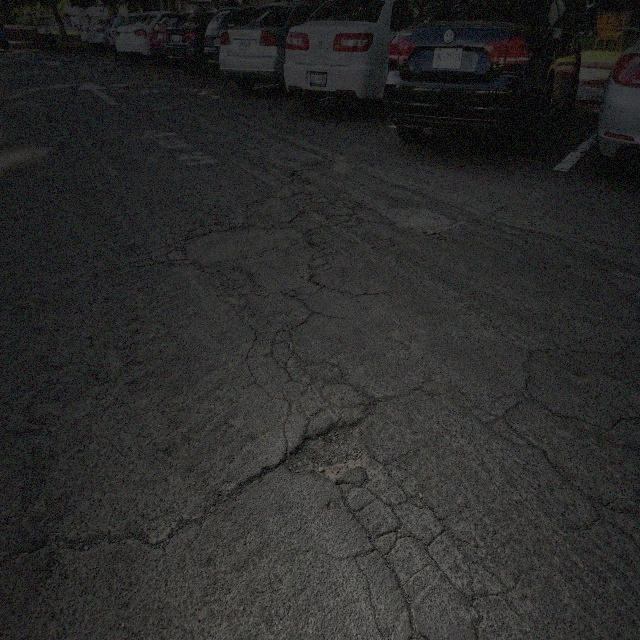pothole: (276, 408, 386, 490)
